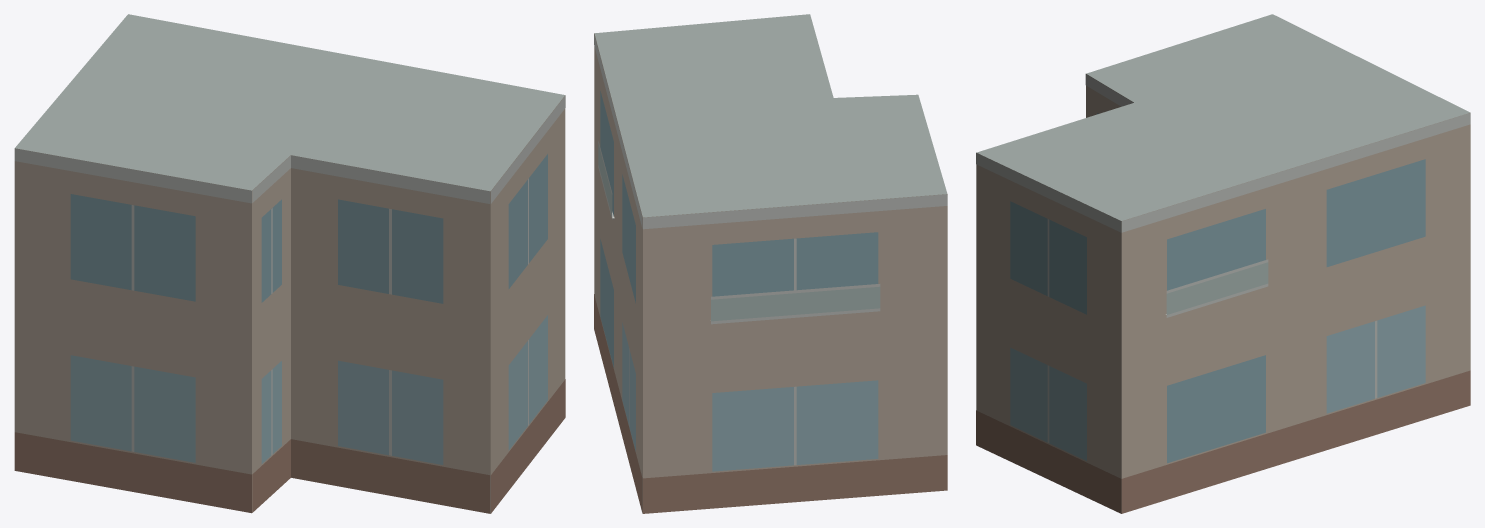
File: survey-upis-32758830.glb
3 views of the same model, side by side, from view 1: azimuth 30°, elevation 25°; view 2: azimuth 150°, elevation 25°; view 3: azimuth 270°, elevation 25° (orthographic). The views are drawn at different scales.
Parts seen in each view (by area): view 1: survey-upis-32758830.tmp; view 2: survey-upis-32758830.tmp; view 3: survey-upis-32758830.tmp.
Boxes of the visible parts, box(x1,y1,x2,y2) form: survey-upis-32758830.tmp: box(14, 14, 565, 513); survey-upis-32758830.tmp: box(594, 14, 947, 513); survey-upis-32758830.tmp: box(976, 14, 1470, 513).
Size of the model in its own units: 9.26 by 6.1 by 9.34.
